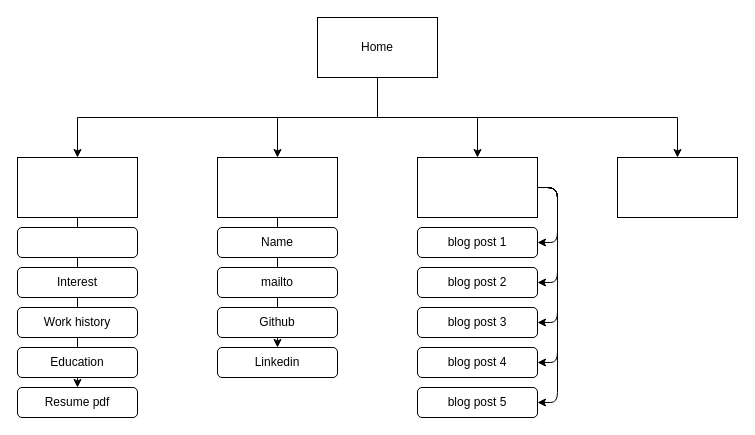
This 755x435 diagram has some shape labels left out. Each missing label, with the centre of its shape:
"About" belongs at point (77, 187).
"blog" belongs at point (477, 187).
"contact" belongs at point (277, 187).
"Projects" belongs at point (677, 187).
"Skills" belongs at point (77, 242).
